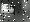person: (2, 6, 11, 18), (11, 7, 16, 15)
